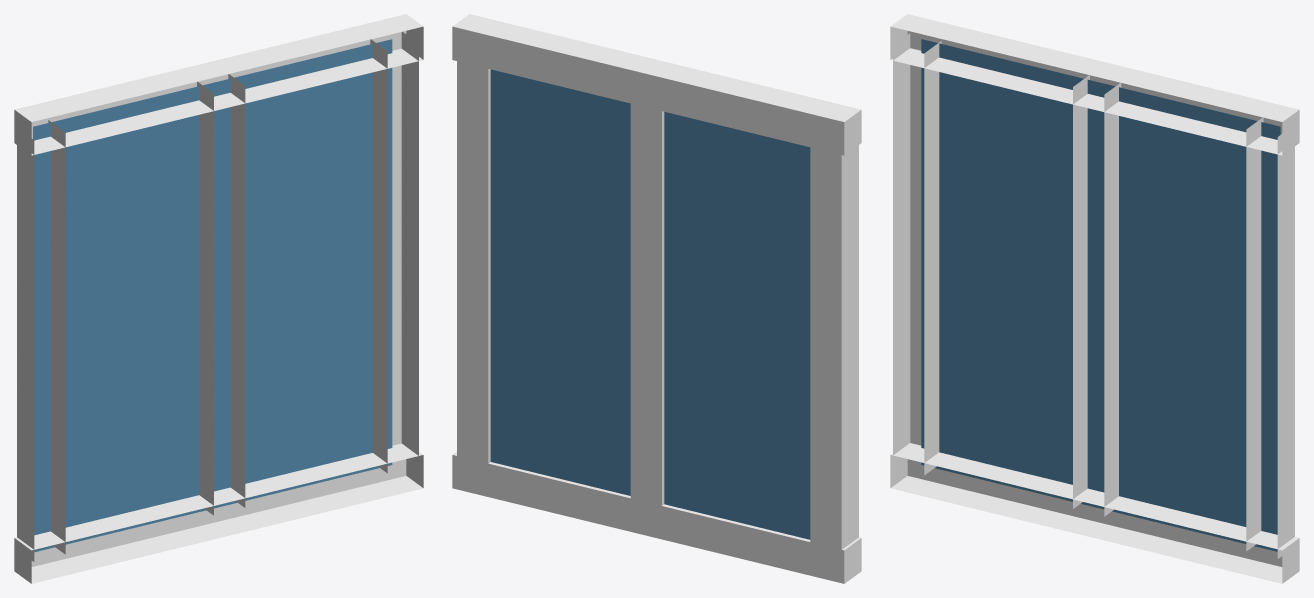
The model's file is window.fbx.
3 renders of one model, left to right at view 1: azimuth 30°, elevation 25°; view 2: azimuth 150°, elevation 25°; view 3: azimuth 330°, elevation 25°, orthographic.
Parts seen in each view (by area): view 1: Glass, Frame; view 2: Glass, Frame; view 3: Glass, Frame.
Boxes of the visible parts, left/top/right/bottom form: Glass: left=33, top=39, right=392, bottom=552; Frame: left=14, top=14, right=423, bottom=583; Glass: left=490, top=69, right=810, bottom=539; Frame: left=452, top=14, right=861, bottom=583; Glass: left=921, top=39, right=1280, bottom=551; Frame: left=890, top=14, right=1299, bottom=583.
Bounding box in the file's own units: 0.0967 × 1.28 × 1.44.
